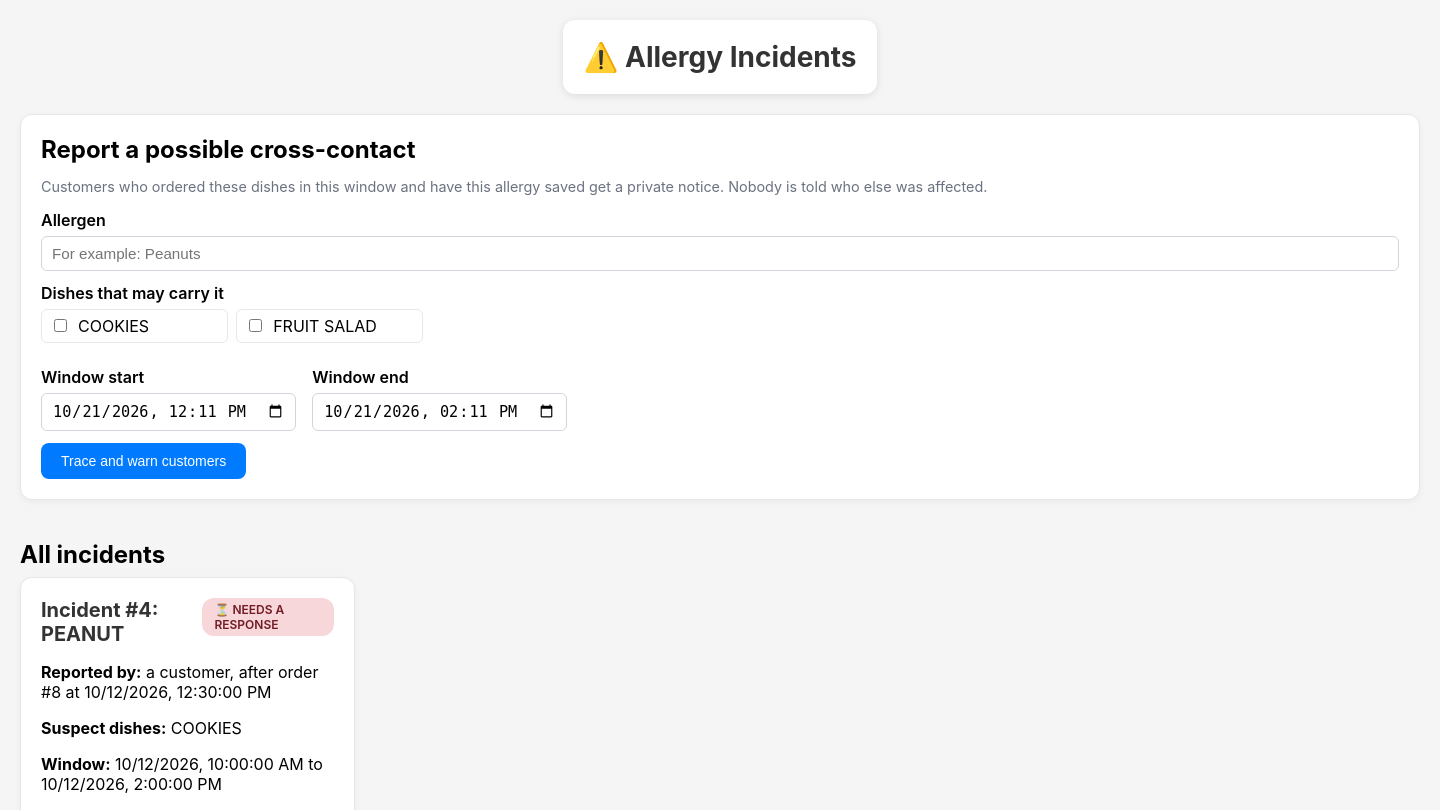
AllergyIncidents › requires an allergen before reporting
Click the button "Trace and warn customers" at (144,461), box x1=41 y1=443 x2=246 y2=479
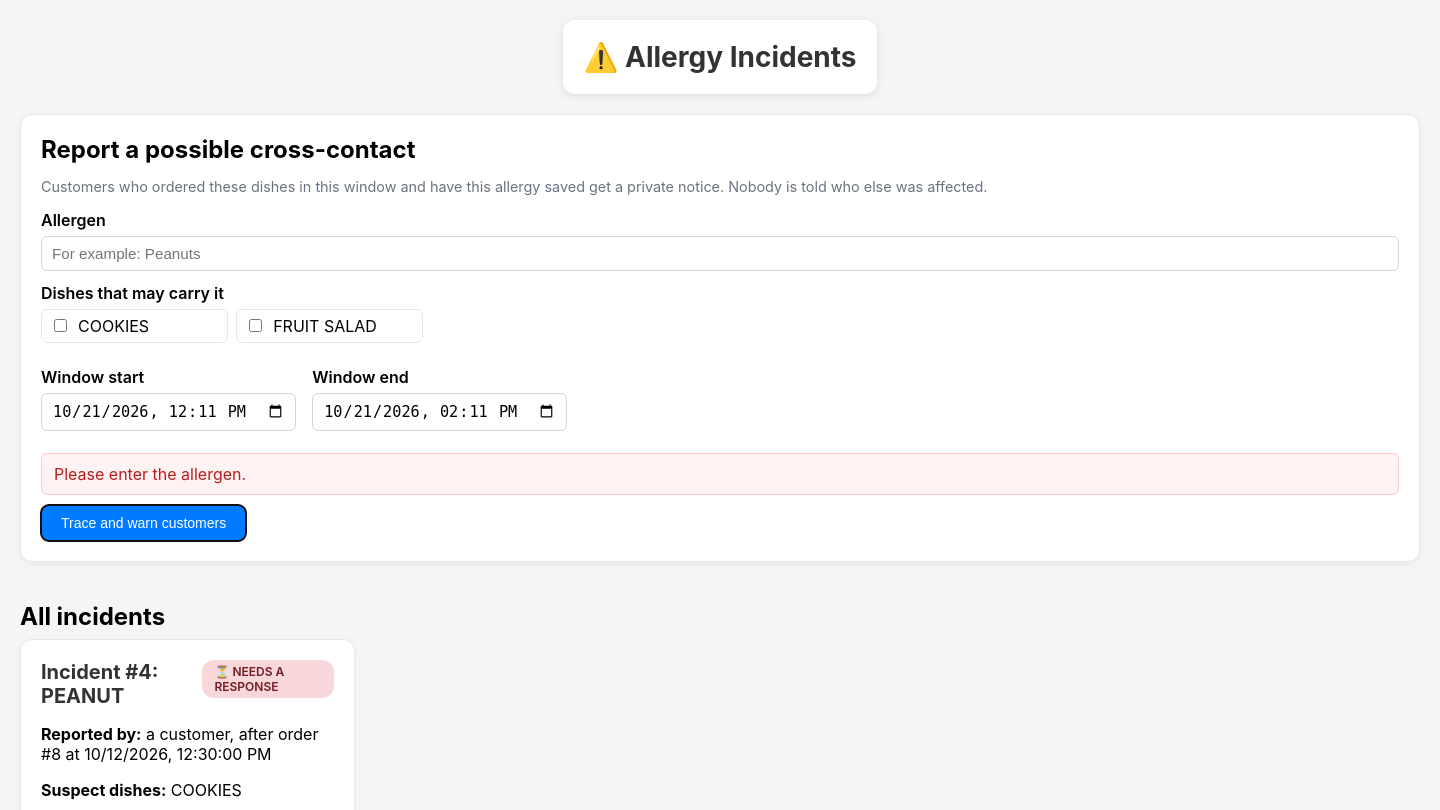
Expected: the text "Please enter the allergen." is shown, x1=41 y1=453 x2=1399 y2=495
